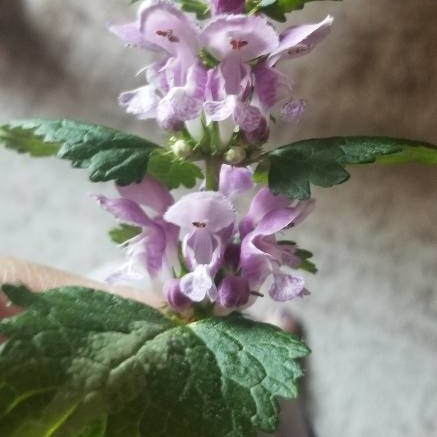obstacle: (90, 0, 338, 407)
